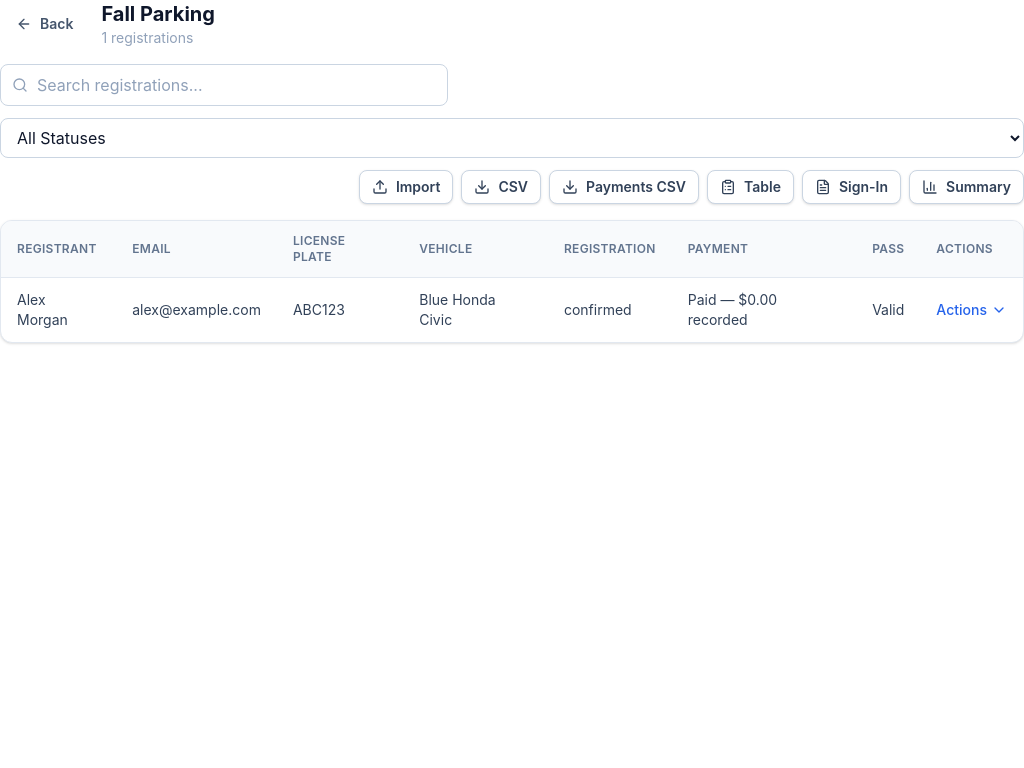
Scenario: RegistrationViewer › keeps the prompt open and maps an eligibility race
Click the button "Actions" at (972,310), box x1=936 y1=300 x2=1007 y2=320
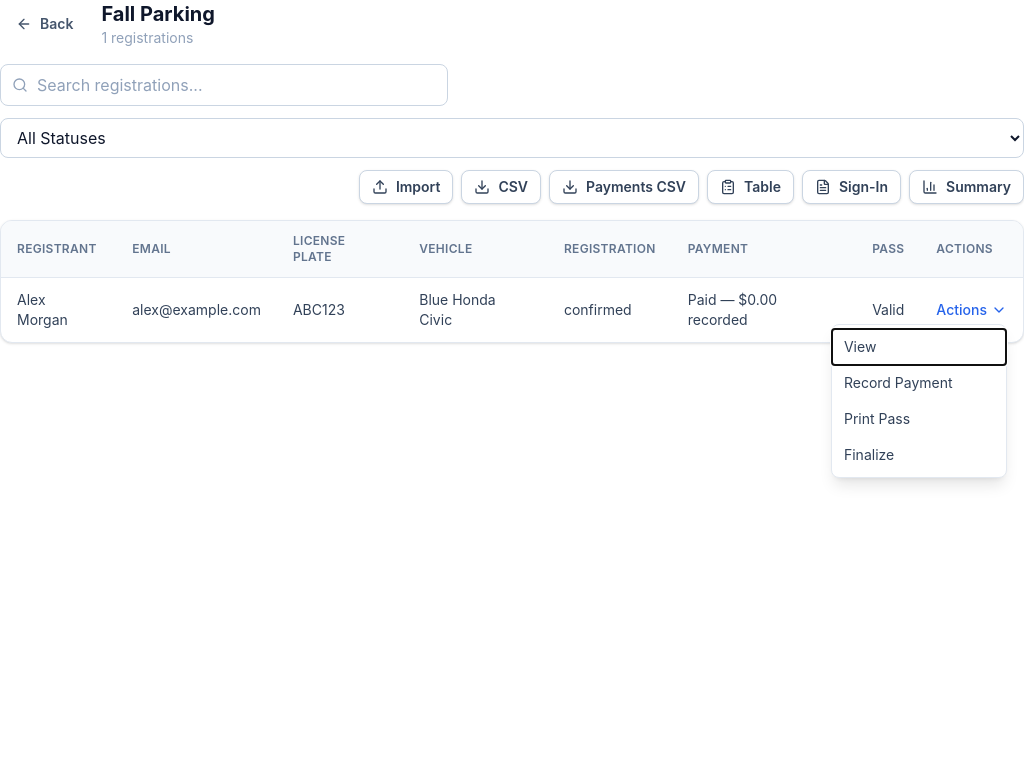
Click the menu item "Finalize" at (919,455), box x1=832 y1=437 x2=1006 y2=473
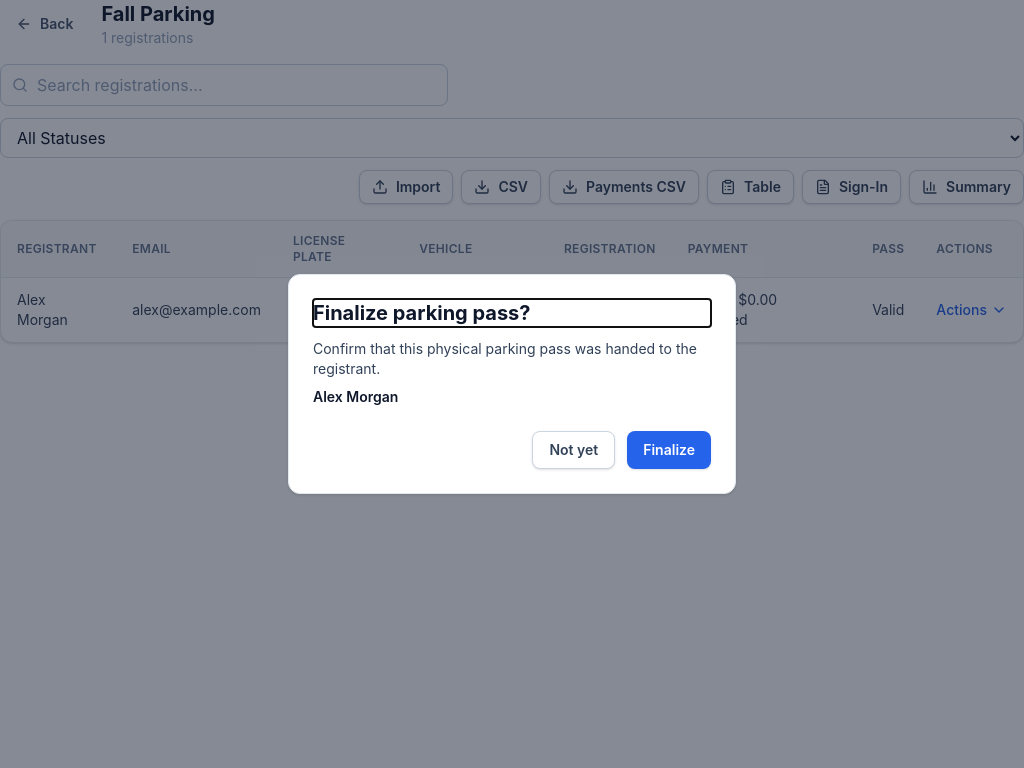
Click the button "Finalize" at (669,450), box x1=627 y1=431 x2=711 y2=469
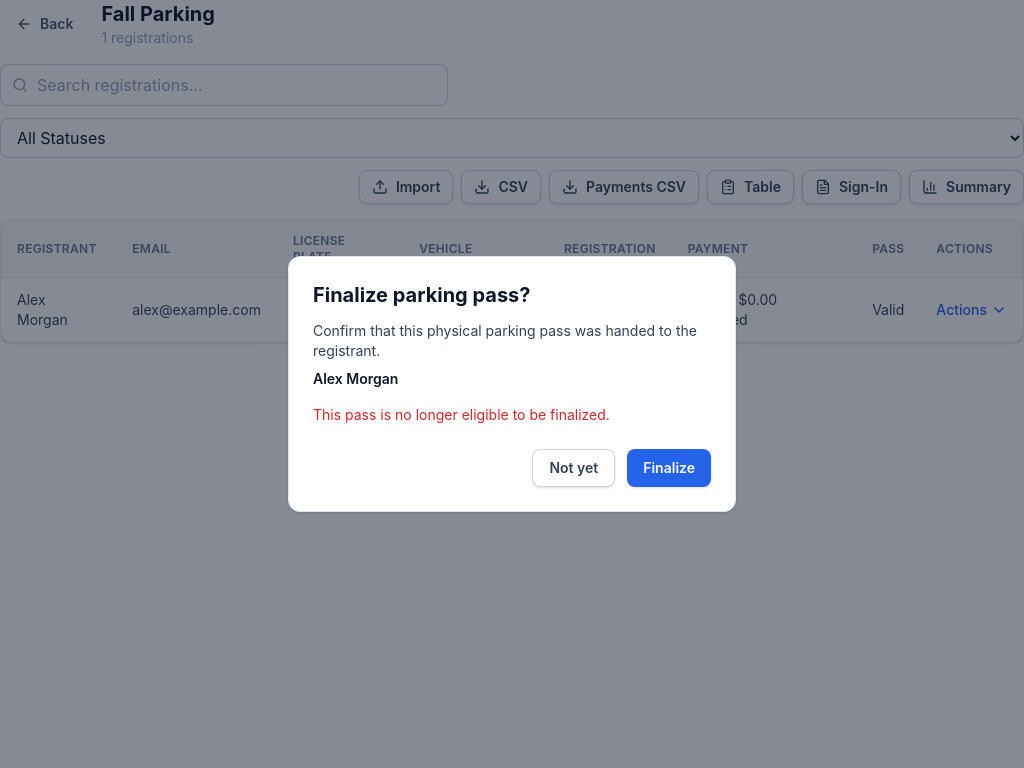
Check: the dialog is shown, box x1=288 y1=256 x2=736 y2=512
Check: the message reads "This pass is no longer eligible to be finalized.", box x1=313 y1=406 x2=610 y2=423
